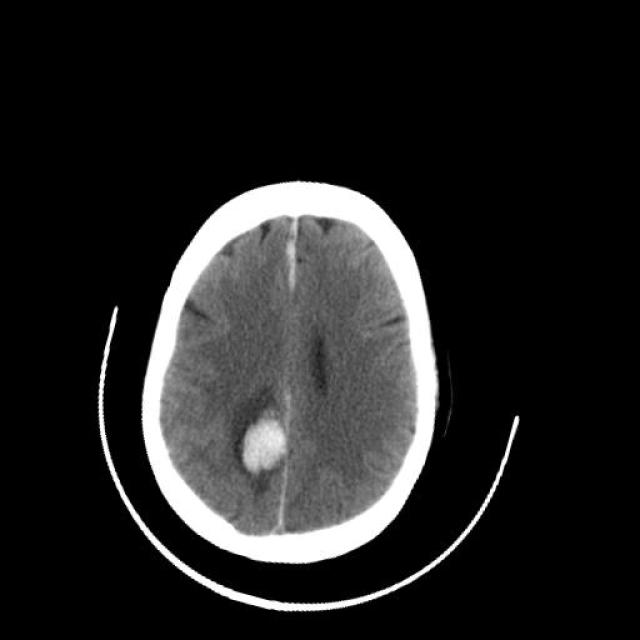Intraparenchymal: (194, 385, 328, 497)
Subdural: (256, 202, 328, 307)
